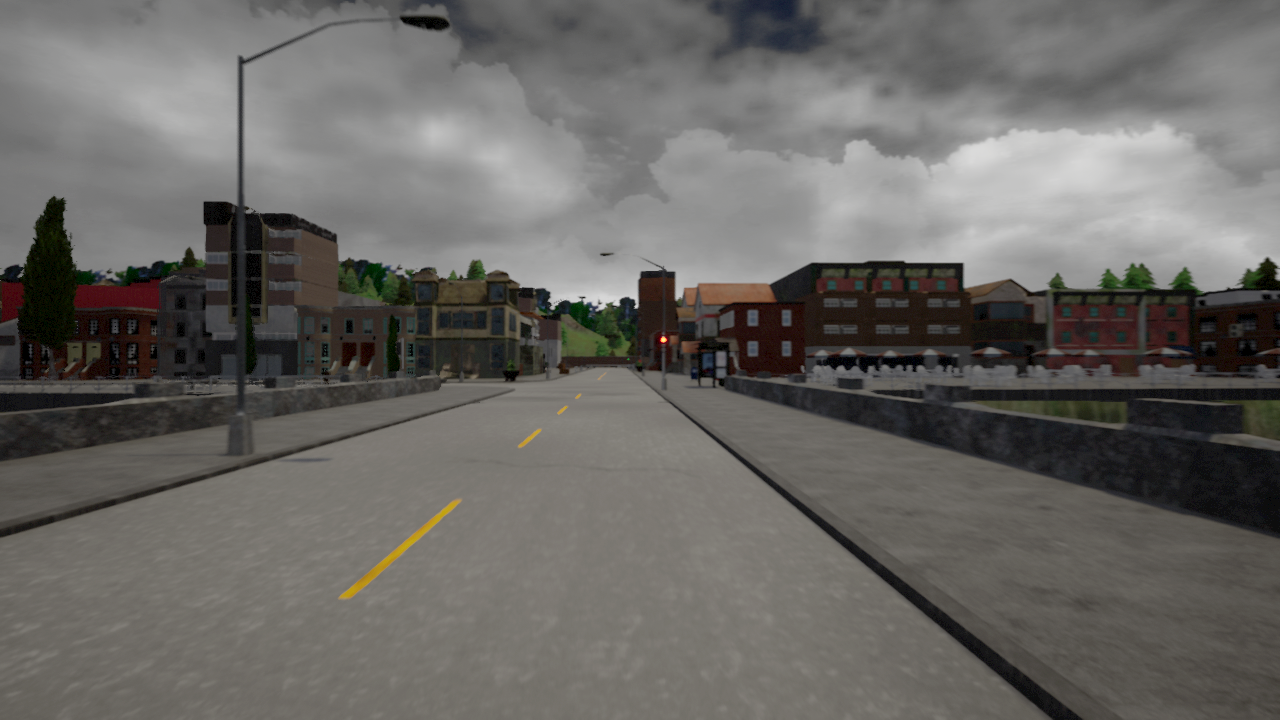red: (659, 335, 667, 353)
